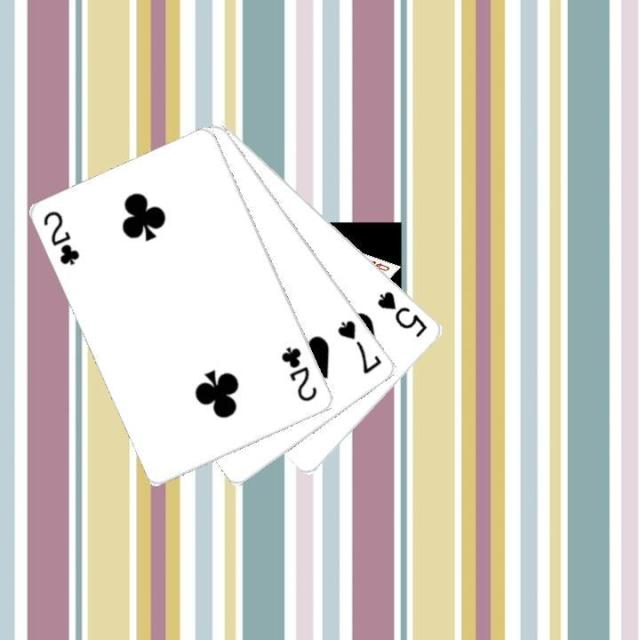2C: (277, 343, 320, 404), (40, 207, 82, 268)
5S: (374, 286, 429, 340)
7S: (333, 316, 385, 376)
